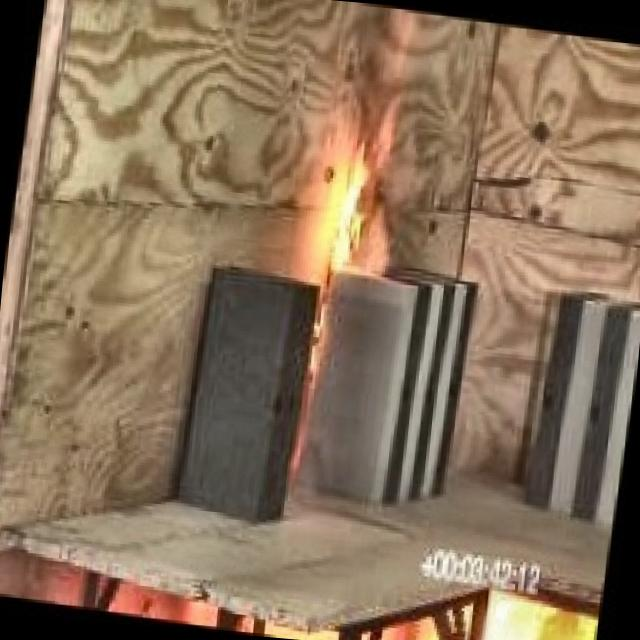fire: (283, 108, 418, 331)
